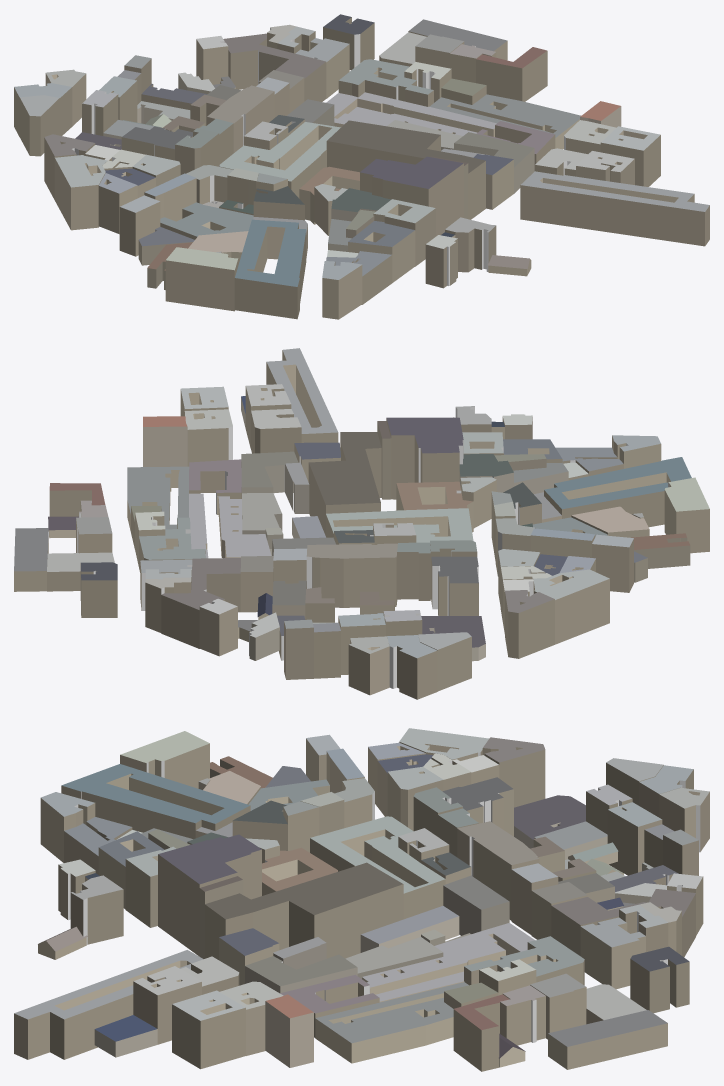
The picture shows the model from 3 angles, top to bottom: view 1: azimuth 30°, elevation 25°; view 2: azimuth 150°, elevation 25°; view 3: azimuth 270°, elevation 25°; orthographic projection. The views are drawn at different scales.
Parts seen in each view (by area): view 1: tuile; view 2: tuile; view 3: tuile.
Part boxes in pixels (x1=…): tuile: x1=14, y1=14, x2=709, y2=319; tuile: x1=14, y1=348, x2=709, y2=699; tuile: x1=14, y1=728, x2=709, y2=1071.
Bounding box in the file's own units: 273 × 37.29 × 276.
